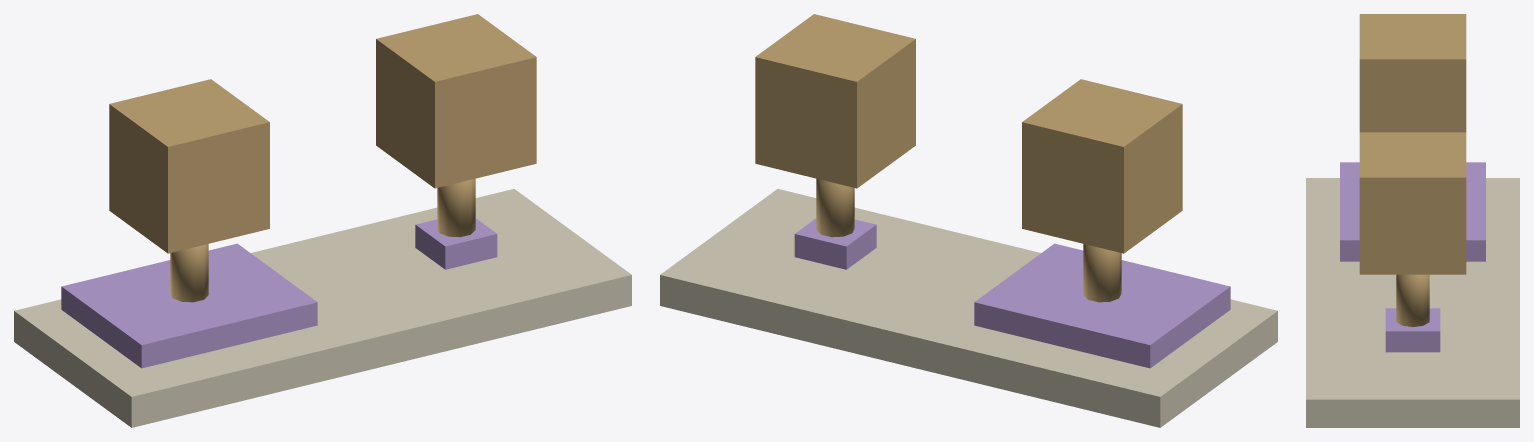
The model's file is pressure.glb.
3 views of the same model, side by side, from view 1: azimuth 30°, elevation 25°; view 2: azimuth 150°, elevation 25°; view 3: azimuth 270°, elevation 25° (orthographic). The views are drawn at different scales.
Visible parts, largest first — view 1: pressure_surface, pressure_equal_weight.001, pressure_equal_weight, pressure_wide_contact, pressure_narrow_contact, pressure_support, pressure_support.001; view 2: pressure_surface, pressure_equal_weight.001, pressure_equal_weight, pressure_wide_contact, pressure_narrow_contact, pressure_support, pressure_support.001; view 3: pressure_surface, pressure_equal_weight.001, pressure_equal_weight, pressure_wide_contact, pressure_narrow_contact, pressure_support.001.
Boxes of the visible parts, left/top/right/bottom form: pressure_surface: left=14, top=189, right=631, bottom=427; pressure_equal_weight.001: left=376, top=14, right=536, bottom=188; pressure_equal_weight: left=109, top=79, right=269, bottom=253; pressure_wide_contact: left=61, top=243, right=317, bottom=368; pressure_narrow_contact: left=415, top=218, right=497, bottom=269; pressure_support: left=170, top=244, right=208, bottom=302; pressure_support.001: left=437, top=178, right=475, bottom=237; pressure_surface: left=660, top=189, right=1277, bottom=427; pressure_equal_weight.001: left=755, top=14, right=915, bottom=188; pressure_equal_weight: left=1022, top=79, right=1182, bottom=253; pressure_wide_contact: left=974, top=243, right=1230, bottom=368; pressure_narrow_contact: left=794, top=218, right=876, bottom=269; pressure_support: left=1083, top=244, right=1121, bottom=302; pressure_support.001: left=816, top=178, right=854, bottom=237; pressure_surface: left=1306, top=178, right=1519, bottom=427; pressure_equal_weight.001: left=1359, top=132, right=1466, bottom=274; pressure_equal_weight: left=1359, top=14, right=1466, bottom=132; pressure_wide_contact: left=1340, top=162, right=1485, bottom=261; pressure_narrow_contact: left=1385, top=308, right=1440, bottom=352; pressure_support.001: left=1396, top=274, right=1429, bottom=326.
Bounding box in the file's own units: 2.7 × 1.26 × 1.1.
